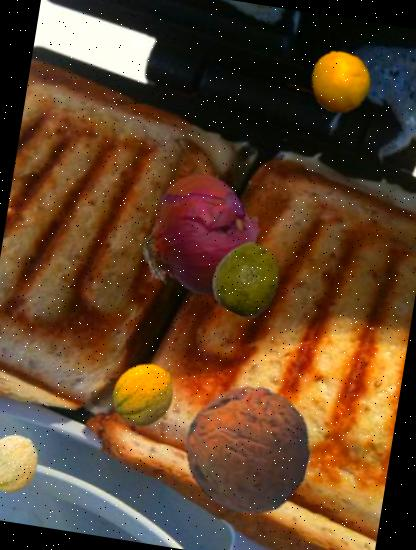Cantaloupe: (106, 356, 182, 433), (0, 429, 46, 497)
Grapefruit: (304, 46, 378, 119)
Guava: (205, 236, 290, 321)
Onion: (126, 162, 274, 310)
Walnut: (174, 376, 320, 522)
